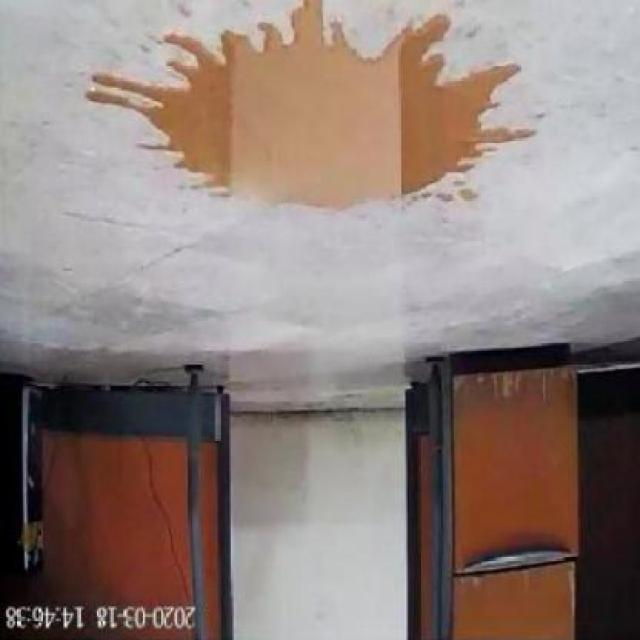spillage: (93, 0, 516, 209)
